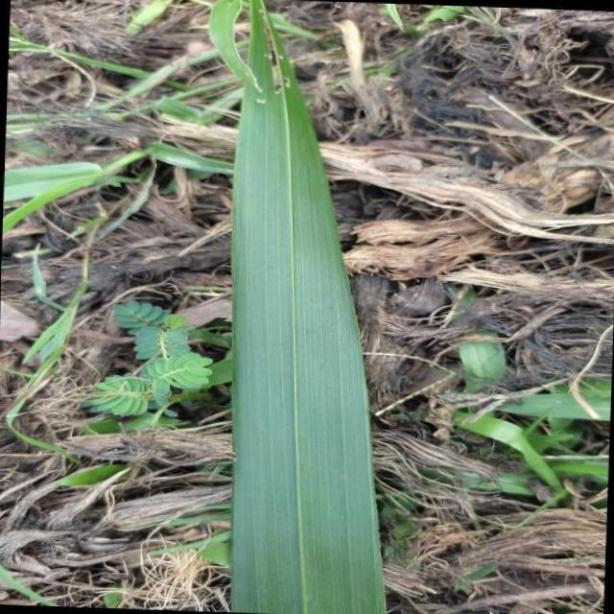Boron: (229, 0, 385, 614)
